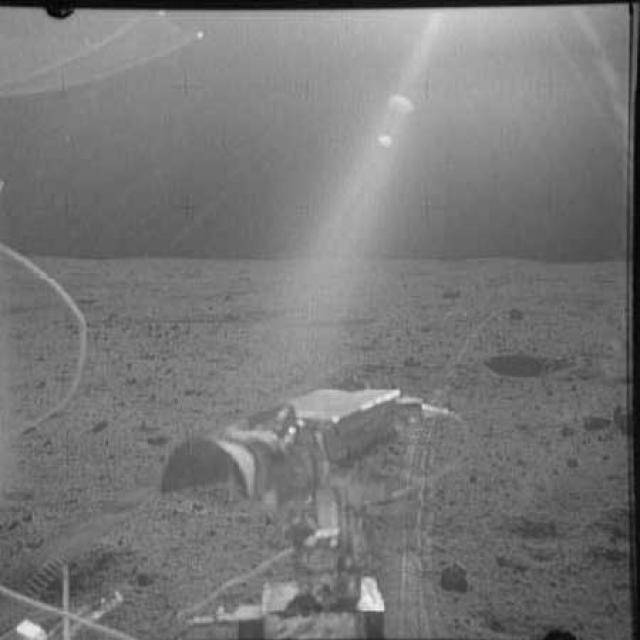crater: (482, 346, 580, 386), (504, 510, 589, 544)
rock: (439, 554, 474, 593), (129, 562, 161, 590), (580, 407, 608, 432), (88, 413, 121, 432), (132, 413, 159, 434), (555, 419, 582, 440), (504, 303, 530, 324), (439, 288, 471, 304), (398, 351, 422, 368), (560, 454, 584, 471)
